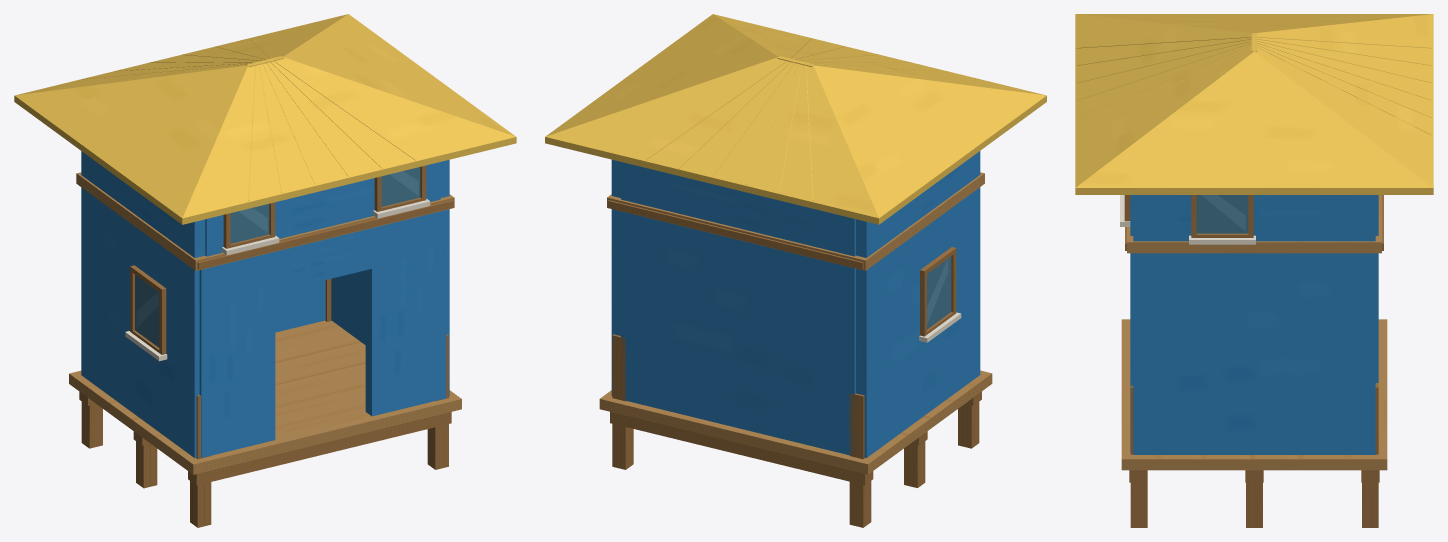
The model's file is stilt_house_blue.glb.
The picture shows the model from 3 angles, left to right: view 1: azimuth 30°, elevation 25°; view 2: azimuth 150°, elevation 25°; view 3: azimuth 270°, elevation 25°; orthographic projection. The views are drawn at different scales.
Visible parts, largest first — view 1: stilt_house_blue; view 2: stilt_house_blue; view 3: stilt_house_blue.
Part boxes in pixels (x1,y1,x2,y2): stilt_house_blue: [14, 14, 516, 527]; stilt_house_blue: [545, 14, 1046, 527]; stilt_house_blue: [1075, 14, 1433, 527].
Size of the model in its own units: 5.4 by 6.08 by 4.7.
Materials: 6 (6 with a texture image).
